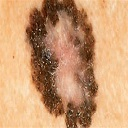Melanoma: (29, 3, 102, 128)
